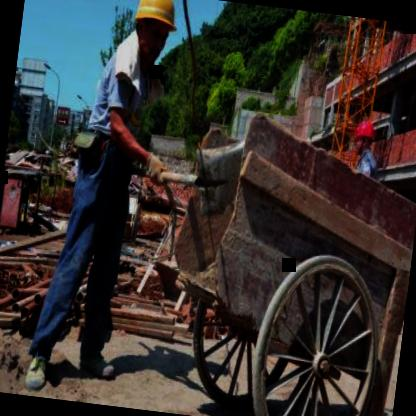helmet: (126, 0, 182, 69), (348, 113, 378, 162)
